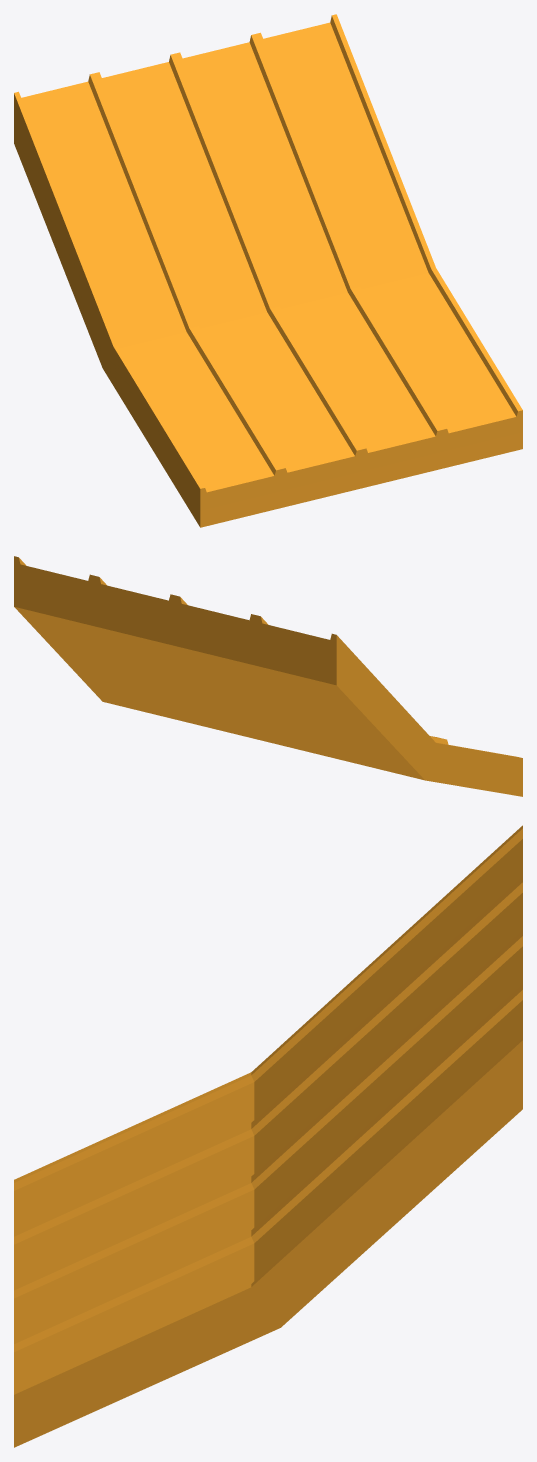
File: SM_Roof_Metal_Moderate_Regular_2x2m.fbx
3 renders of one model, top to bottom at view 1: azimuth 30°, elevation 25°; view 2: azimuth 150°, elevation 25°; view 3: azimuth 270°, elevation 25°, orthographic. The views are drawn at different scales.
Visible parts, largest first — view 1: roof-metal-moderate-regular-2x2m; view 2: roof-metal-moderate-regular-2x2m; view 3: roof-metal-moderate-regular-2x2m.
Boxes of the visible parts, box(x1,y1,x2,y2) form: roof-metal-moderate-regular-2x2m: box(14, 14, 522, 527); roof-metal-moderate-regular-2x2m: box(14, 556, 522, 796); roof-metal-moderate-regular-2x2m: box(14, 825, 522, 1447).
Size of the model in its own units: 2 by 1.77 by 2.
